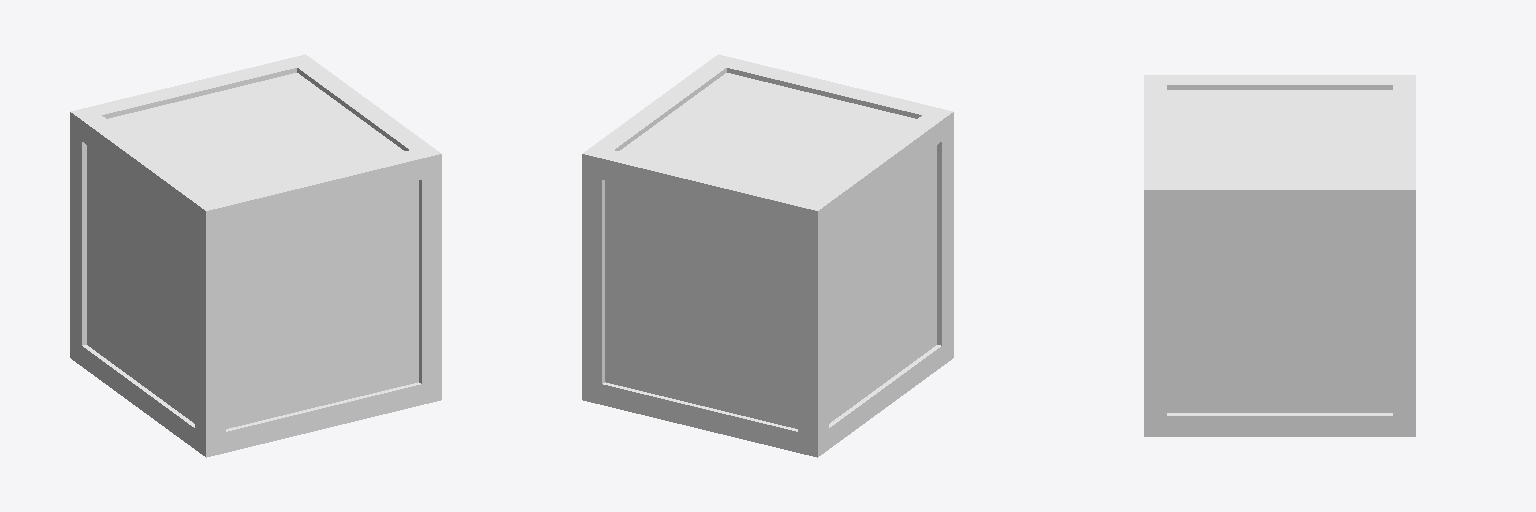
File: crate.obj
3 renders of one model, left to right at view 1: azimuth 30°, elevation 25°; view 2: azimuth 150°, elevation 25°; view 3: azimuth 270°, elevation 25°, orthographic.
Parts seen in each view (by area): view 1: Wood_container1; view 2: Wood_container1; view 3: Wood_container1.
Part boxes in pixels (left/top/right/bottom): Wood_container1: left=70, top=54, right=441, bottom=457; Wood_container1: left=582, top=54, right=953, bottom=457; Wood_container1: left=1144, top=75, right=1415, bottom=436.
Bounding box in the file's own units: 200 × 200 × 200.